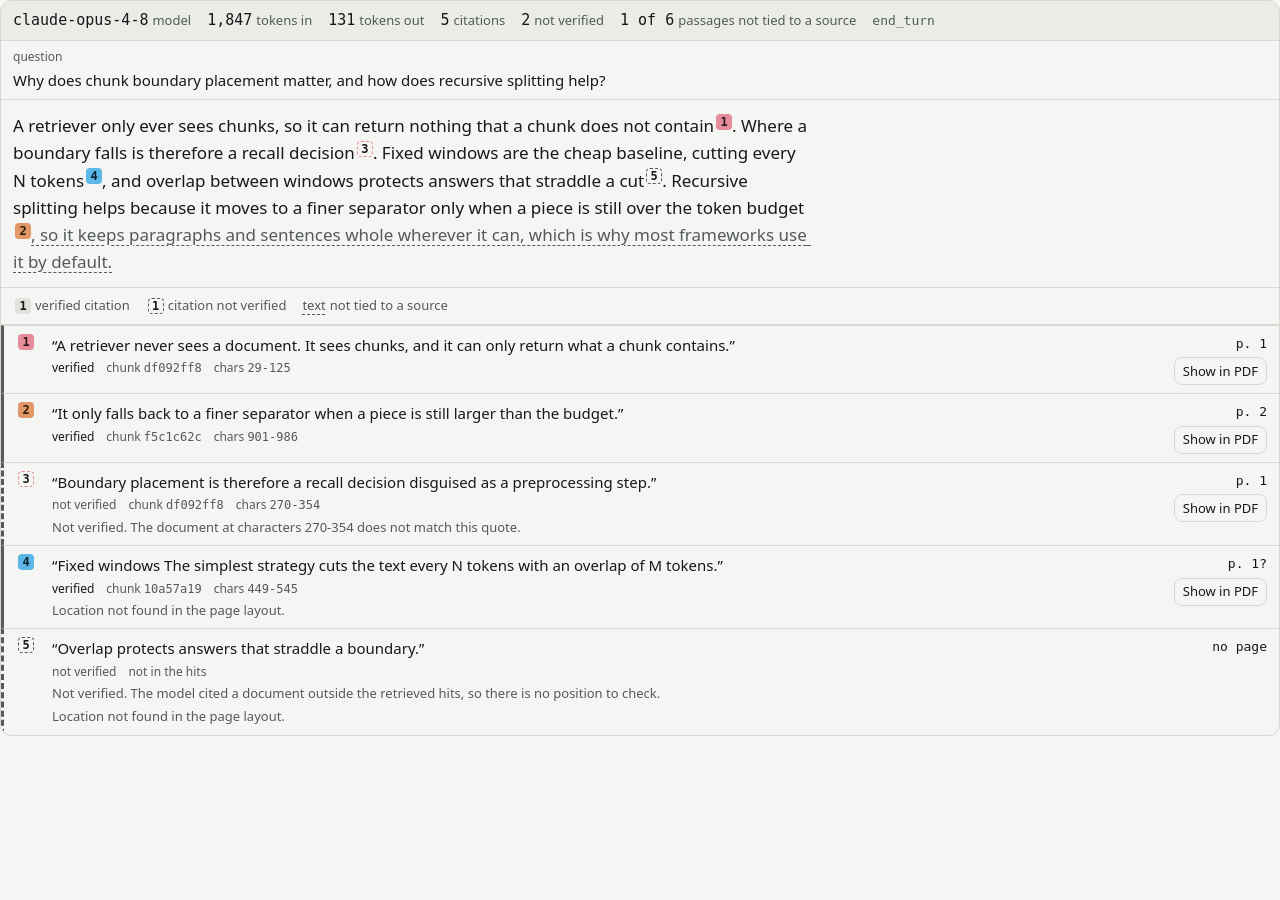
Scenario: ChatInspector › falls back the same way when the search fails
The width and height of the screenshot is (1280, 900).
Click the button "1" at (724, 122), box [716,114,732,130]
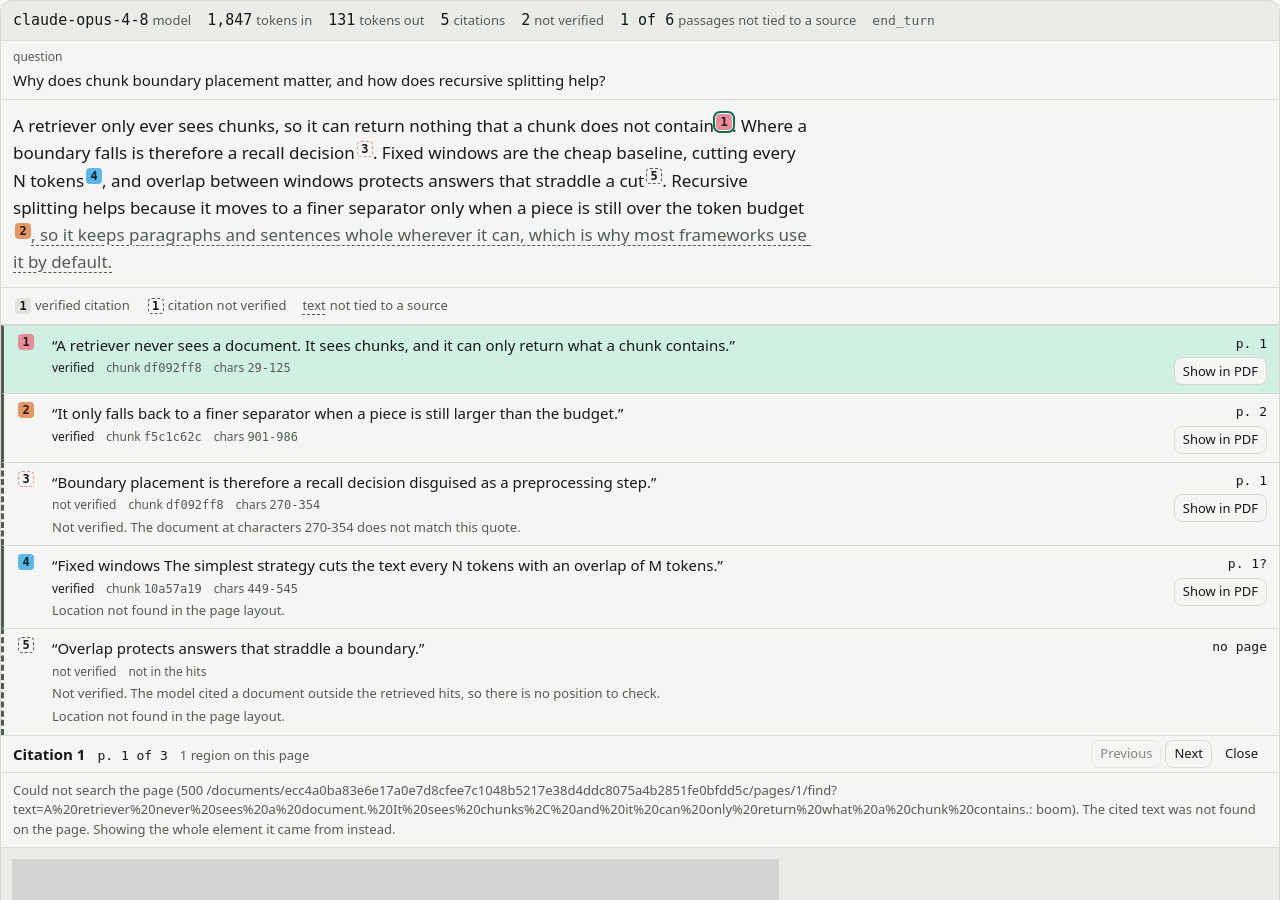
Result: the text with test id "pdf-notice" shows "Could not search the page" at [13,781,1256,838]
